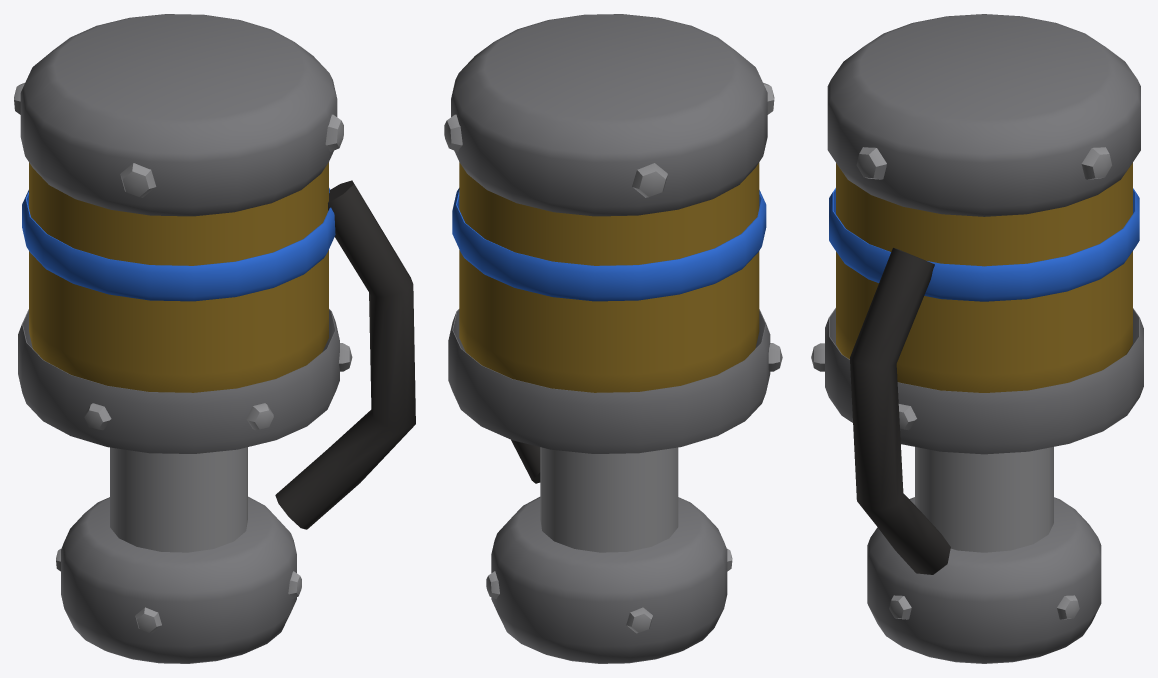
Rendered from Kit_Limb_Piston_S.glb.
3 renders of one model, left to right at view 1: azimuth 30°, elevation 25°; view 2: azimuth 150°, elevation 25°; view 3: azimuth 270°, elevation 25°, orthographic.
Visible parts, largest first — view 1: Kit_Limb_Piston_S; view 2: Kit_Limb_Piston_S; view 3: Kit_Limb_Piston_S.
Part boxes in pixels (left/top/right/bottom): Kit_Limb_Piston_S: left=14, top=14, right=415, bottom=663; Kit_Limb_Piston_S: left=444, top=14, right=782, bottom=663; Kit_Limb_Piston_S: left=811, top=14, right=1143, bottom=663.
Size of the model in its own units: 0.1553 by 0.2551 by 0.1389.
